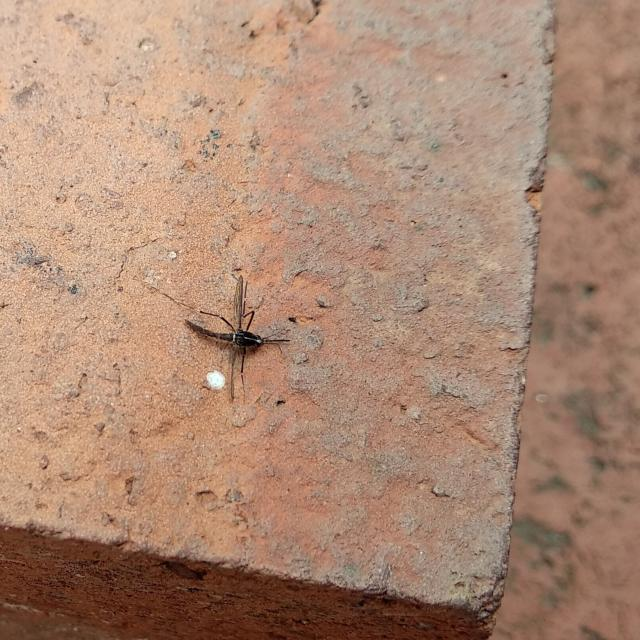albopictus: (158, 265, 291, 415)
